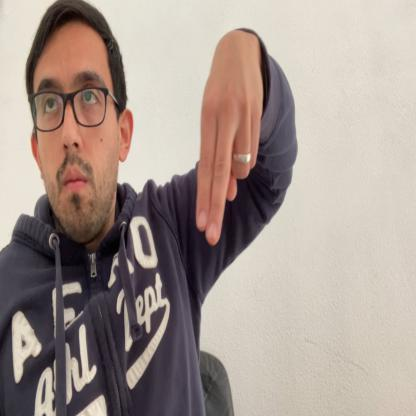N: (196, 38, 262, 245)
